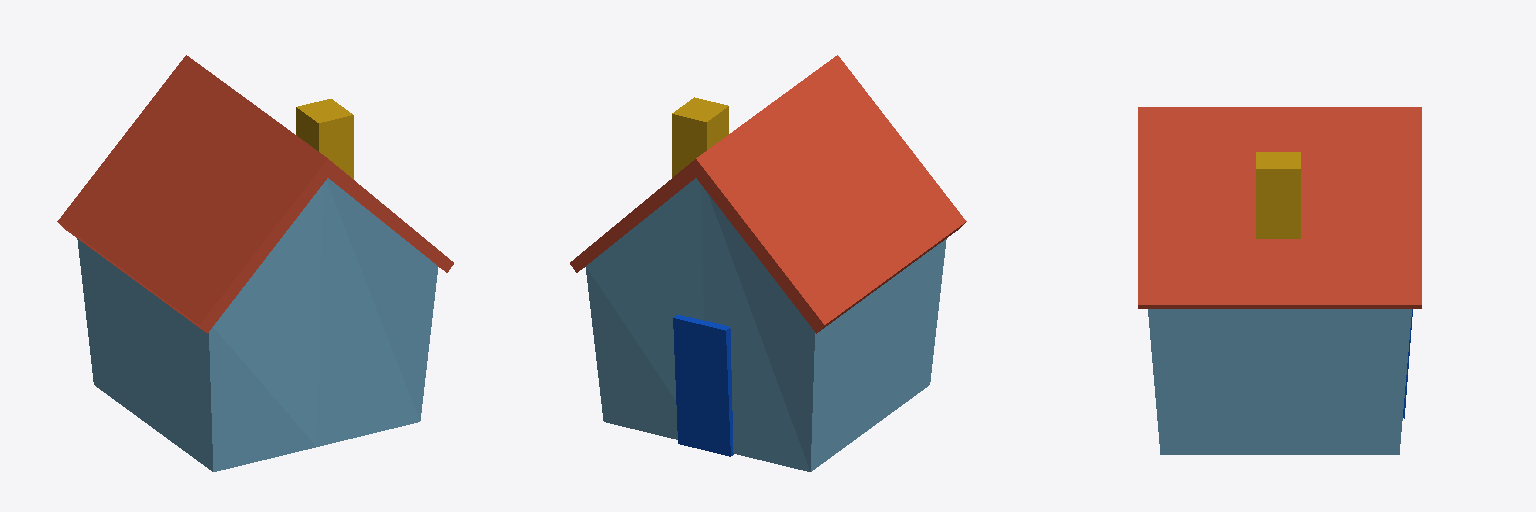
File: House.obj
3 renders of one model, left to right at view 1: azimuth 30°, elevation 25°; view 2: azimuth 150°, elevation 25°; view 3: azimuth 270°, elevation 25°, orthographic.
Visible parts, largest first — view 1: House, Roof, Chimney; view 2: House, Roof, Door, Chimney; view 3: Roof, House, Chimney.
Part boxes in pixels (x1,y1,x2,y2): House: (77, 178, 437, 471); Roof: (57, 55, 453, 333); Chimney: (296, 99, 353, 179); House: (586, 178, 946, 471); Roof: (570, 55, 966, 333); Door: (673, 315, 733, 456); Chimney: (672, 97, 728, 177); Roof: (1138, 107, 1421, 308); House: (1148, 309, 1411, 454); Chimney: (1256, 152, 1300, 238).
Bounding box in the file's own units: 222 × 248 × 214.